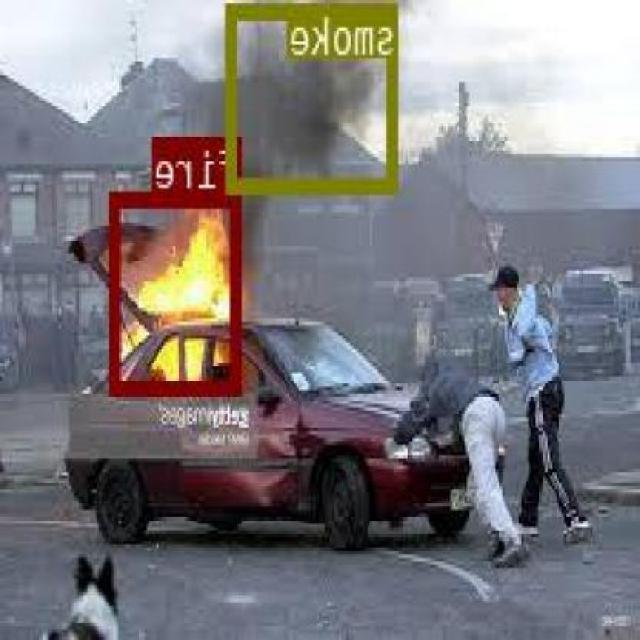Fire: (112, 189, 243, 394)
Smoke: (228, 2, 400, 190)
